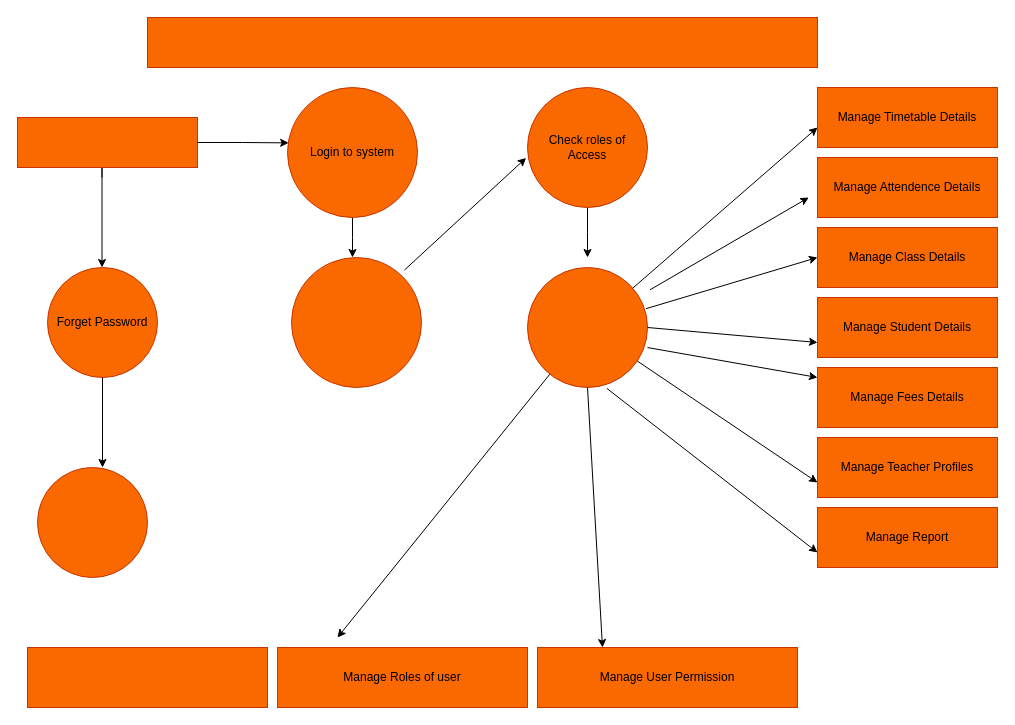
Image size: 1015x725. Some labels were removed from this diagram. The centre of each missing label's shape, as x and y in pixels:
"Admin" goes at (x=107, y=142).
"Check Credentials" goes at (x=356, y=322).
"Manage Modules" goes at (x=587, y=327).
"Manage System Admins" goes at (x=147, y=677).
"Send Emails to User" goes at (x=92, y=522).
"Student Information System" goes at (x=482, y=42).
